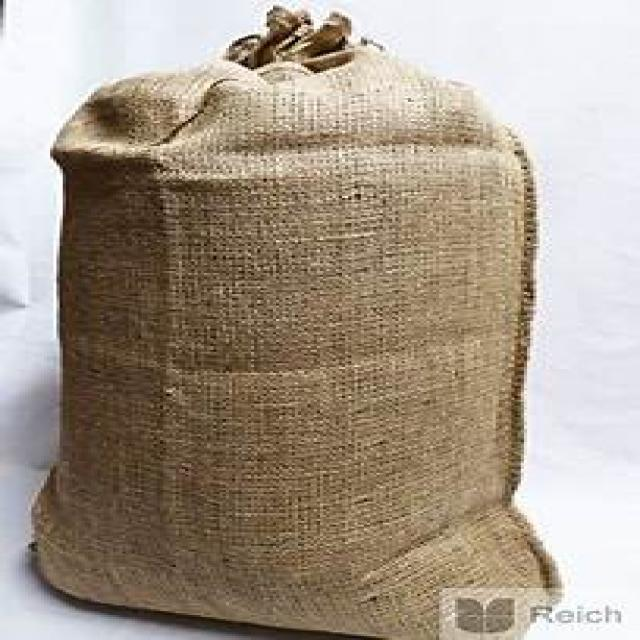gunny_bag: (18, 3, 575, 640)
